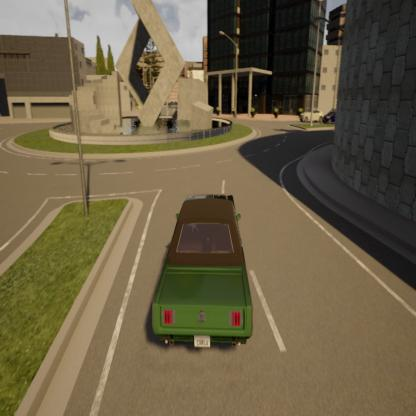Cars: (144, 181, 260, 362), (298, 106, 323, 123), (322, 106, 338, 126)
